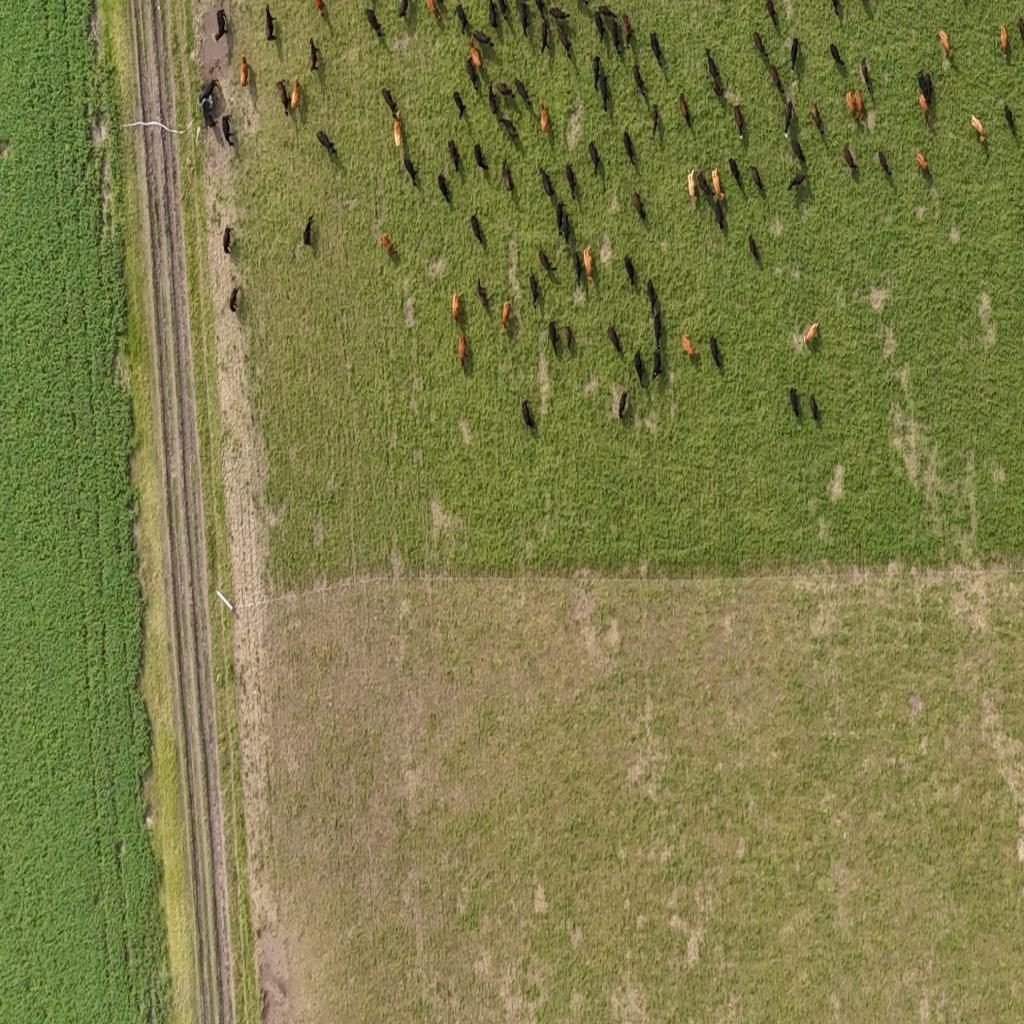cow: (198, 73, 226, 107), (524, 271, 546, 309), (210, 6, 233, 42), (646, 28, 666, 69), (379, 84, 403, 118), (261, 1, 279, 46), (470, 210, 490, 250), (621, 124, 638, 171), (797, 320, 823, 350), (597, 70, 617, 109), (704, 42, 724, 81), (676, 84, 693, 129), (274, 76, 292, 118), (449, 0, 470, 36), (582, 240, 599, 283), (367, 4, 386, 42), (605, 321, 626, 355), (651, 346, 667, 390), (632, 347, 649, 388), (307, 36, 323, 79), (473, 274, 492, 310), (538, 162, 556, 200), (317, 126, 337, 160), (746, 161, 766, 195), (402, 150, 418, 192), (492, 116, 520, 140), (462, 56, 481, 91), (220, 112, 238, 148), (237, 52, 255, 88), (557, 27, 574, 65), (598, 4, 618, 36), (473, 141, 491, 176), (732, 102, 749, 139), (841, 140, 860, 173), (967, 111, 986, 144), (652, 311, 668, 350), (226, 284, 246, 315), (763, 0, 783, 31), (301, 214, 319, 248), (916, 64, 934, 98), (770, 61, 788, 95), (516, 0, 532, 38), (539, 15, 554, 55), (786, 169, 812, 192), (622, 251, 639, 286), (446, 138, 464, 171), (500, 158, 516, 195), (698, 163, 714, 200), (564, 156, 578, 198), (788, 380, 803, 419), (584, 138, 602, 170), (708, 332, 724, 368), (648, 102, 663, 140), (590, 12, 609, 42), (561, 317, 577, 352), (941, 25, 955, 65), (782, 98, 796, 138), (290, 74, 303, 116), (391, 116, 408, 148), (536, 101, 552, 135), (729, 156, 745, 190), (200, 100, 218, 130), (570, 251, 584, 289), (712, 198, 726, 236), (788, 35, 802, 73), (536, 247, 558, 271), (452, 87, 469, 118), (679, 329, 696, 360), (875, 150, 895, 176), (854, 84, 868, 121), (622, 16, 638, 48), (590, 52, 605, 86), (546, 316, 560, 352), (633, 185, 647, 221), (645, 274, 659, 310), (829, 42, 847, 70), (996, 21, 1010, 57), (522, 398, 538, 429), (1001, 99, 1017, 130), (499, 298, 514, 331), (610, 18, 622, 59), (222, 224, 236, 259), (811, 100, 824, 137), (807, 392, 822, 424), (632, 62, 647, 94), (913, 149, 932, 174), (712, 160, 724, 199), (859, 54, 874, 85), (843, 88, 857, 121), (554, 198, 566, 236), (561, 214, 574, 249), (792, 137, 810, 162), (752, 29, 770, 54), (687, 168, 700, 202), (380, 230, 397, 256), (469, 35, 482, 69), (565, 232, 578, 266), (456, 330, 467, 370), (497, 75, 517, 97), (618, 388, 631, 420), (427, 0, 443, 25), (450, 290, 461, 326), (748, 229, 760, 262), (438, 172, 451, 202), (516, 77, 530, 104), (488, 0, 500, 31), (486, 84, 498, 114), (548, 4, 570, 20), (916, 94, 930, 119), (586, 1, 600, 26), (828, 0, 845, 20), (535, 0, 553, 18), (314, 0, 331, 19), (858, 0, 873, 21), (398, 0, 412, 22), (710, 78, 726, 97), (471, 27, 486, 47), (596, 4, 617, 18), (500, 0, 510, 28), (534, 0, 546, 21), (1020, 16, 1024, 47)
